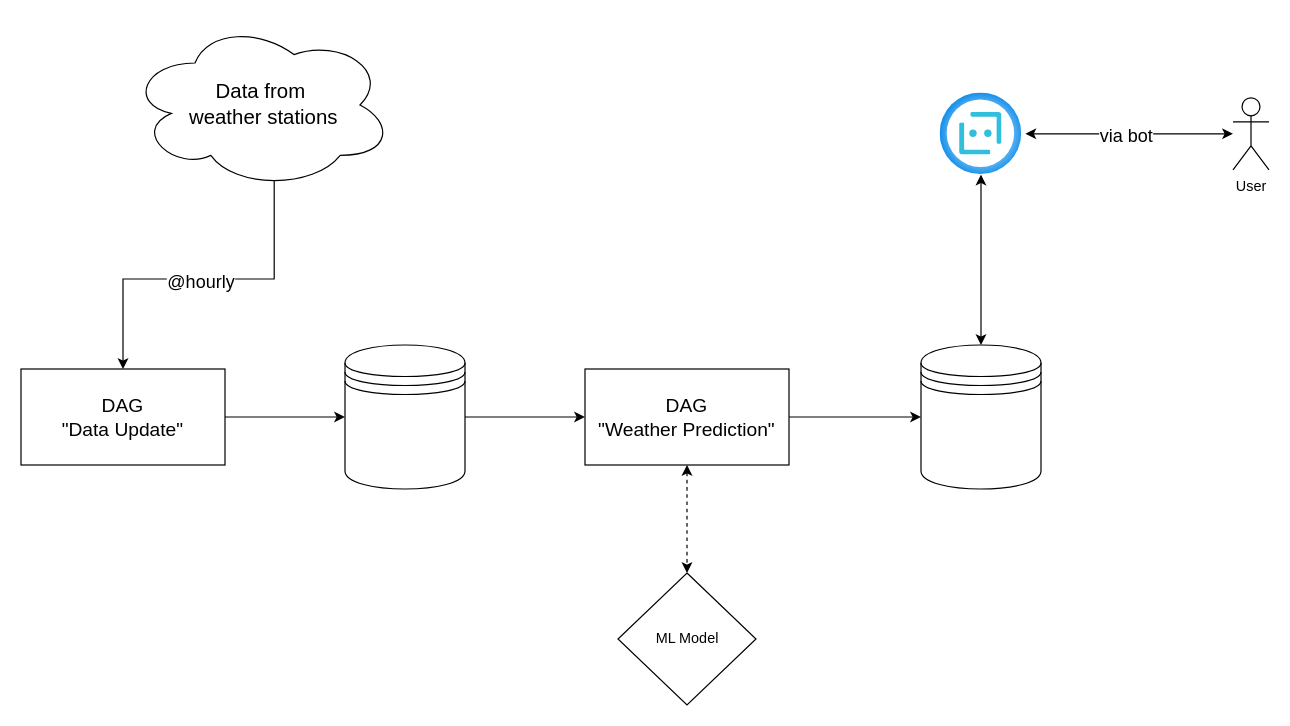
The diagram is 1290 pixels wide and 726 high, and some of its shapes have lost their labels. Each missing label, with the box of its shape:
Predictions Database: (920, 344, 1041, 489)
Weather Database: (344, 344, 465, 489)
